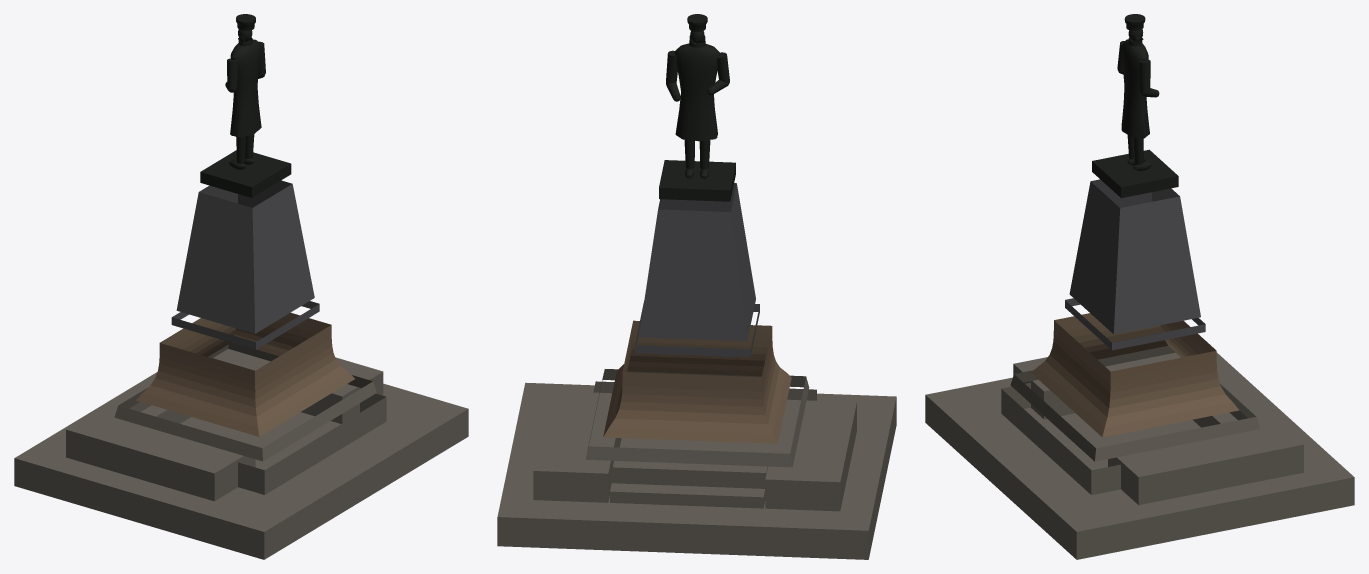
The model's file is nahimov_monument.lod.glb.
3 views of the same model, side by side, from view 1: azimuth 30°, elevation 25°; view 2: azimuth 150°, elevation 25°; view 3: azimuth 270°, elevation 25° (orthographic). The views are drawn at different scales.
Visible parts, largest first — view 1: nahimov_monument_stone, nahimov_monument_wall2, nahimov_monument_wall, nahimov_monument_wall3_s; view 2: nahimov_monument_stone, nahimov_monument_wall, nahimov_monument_wall2, nahimov_monument_wall3_s; view 3: nahimov_monument_stone, nahimov_monument_wall2, nahimov_monument_wall, nahimov_monument_wall3_s.
Part boxes in pixels (x1,y1,x2,y2): nahimov_monument_stone: (14, 342, 468, 559); nahimov_monument_wall2: (171, 180, 319, 349); nahimov_monument_wall: (136, 312, 354, 436); nahimov_monument_wall3_s: (200, 14, 291, 197); nahimov_monument_stone: (497, 369, 896, 559); nahimov_monument_wall: (603, 320, 791, 443); nahimov_monument_wall2: (635, 183, 759, 357); nahimov_monument_wall3_s: (659, 14, 735, 201); nahimov_monument_stone: (925, 346, 1354, 559); nahimov_monument_wall2: (1065, 179, 1205, 350); nahimov_monument_wall: (1031, 313, 1239, 437); nahimov_monument_wall3_s: (1092, 14, 1178, 198).
Size of the model in its own units: 13.19 by 14.32 by 12.46.
